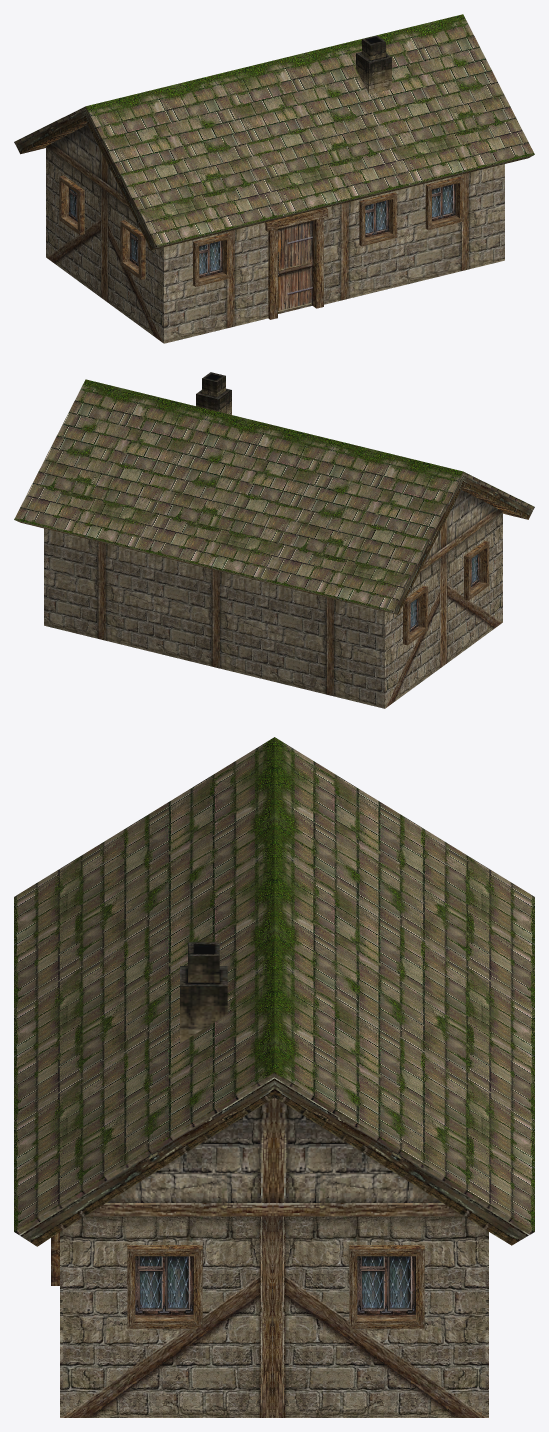
Rendered from rd_house2.glb.
3 renders of one model, top to bottom at view 1: azimuth 30°, elevation 25°; view 2: azimuth 150°, elevation 25°; view 3: azimuth 270°, elevation 25°, orthographic. The views are drawn at different scales.
Parts seen in each view (by area): view 1: rd_house2-col; view 2: rd_house2-col; view 3: rd_house2-col.
Boxes of the visible parts, x1,y1,x2,y2 form: rd_house2-col: (14, 14, 534, 343); rd_house2-col: (14, 372, 534, 708); rd_house2-col: (14, 737, 534, 1417).
Bounding box in the file's own units: 9.02 × 4.87 × 5.93.
Materials: 6 (6 with a texture image).
